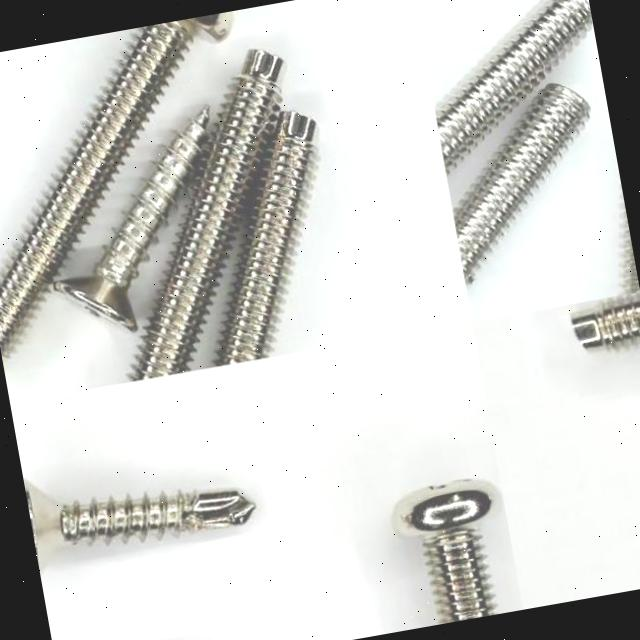Screw: (0, 13, 227, 358), (130, 49, 281, 381), (52, 107, 208, 331), (453, 84, 589, 289), (435, 0, 592, 173), (217, 110, 315, 366), (23, 479, 255, 571), (393, 479, 500, 623)
